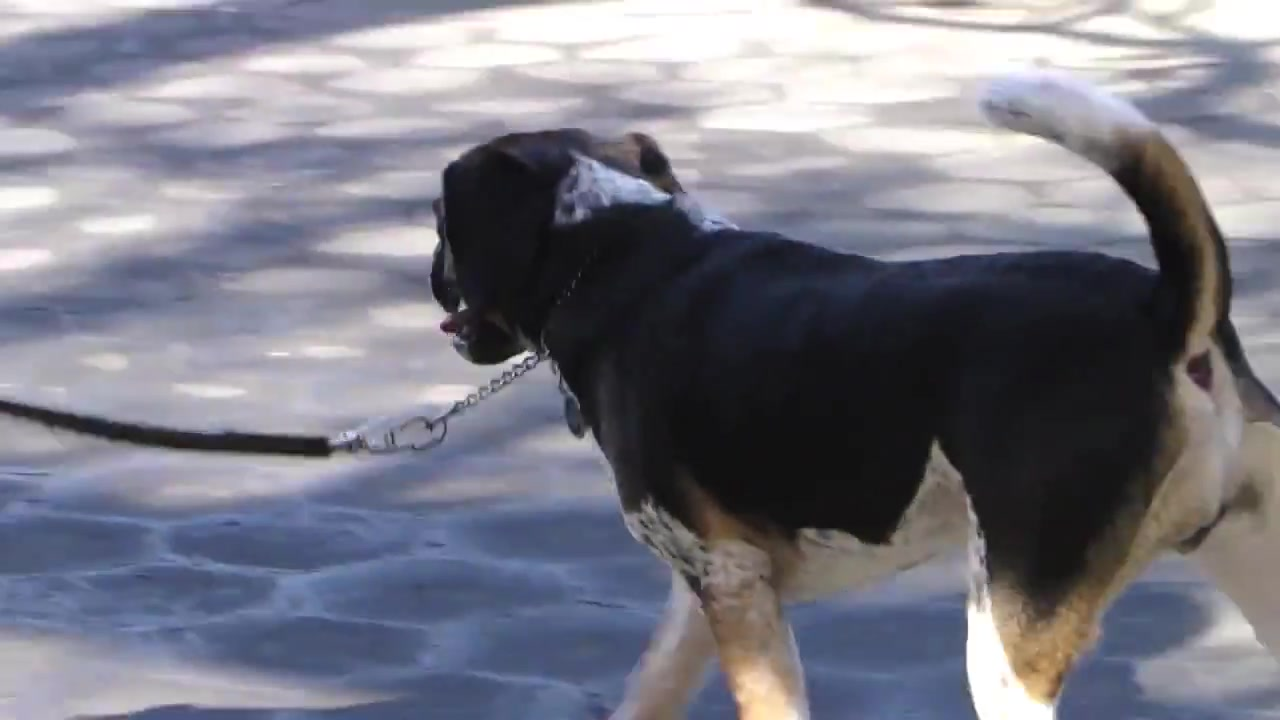dog: (428, 66, 1280, 720)
